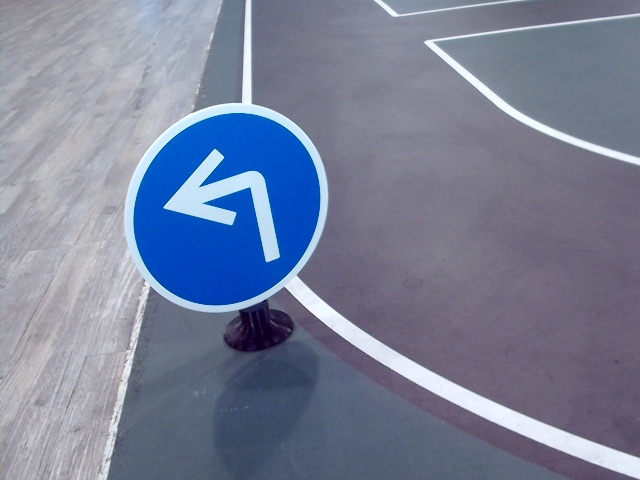turn_left: (165, 147, 281, 266)
